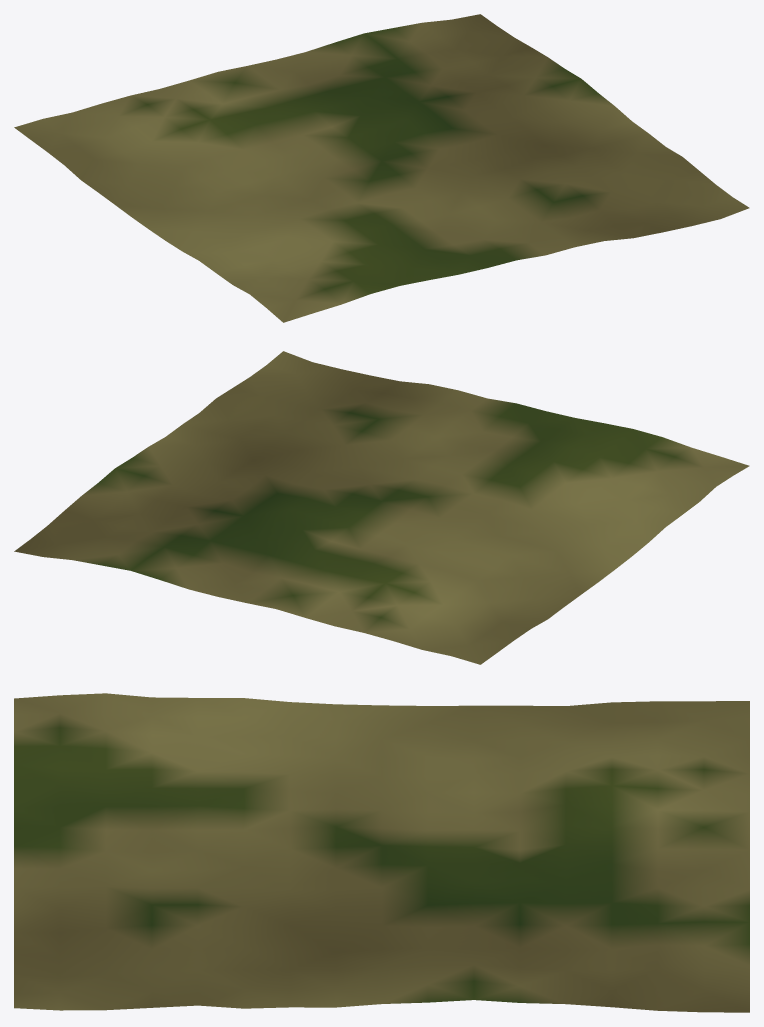
Rendered from terrain_lod1_-3_-2.obj.
The picture shows the model from 3 angles, top to bottom: view 1: azimuth 30°, elevation 25°; view 2: azimuth 150°, elevation 25°; view 3: azimuth 270°, elevation 25°; orthographic projection. The views are drawn at different scales.
Parts seen in each view (by area): view 1: terrain_lod1_-3_-2; view 2: terrain_lod1_-3_-2; view 3: terrain_lod1_-3_-2.
Part boxes in pixels (x1=…): terrain_lod1_-3_-2: x1=14, y1=14, x2=749, y2=322; terrain_lod1_-3_-2: x1=14, y1=351, x2=749, y2=664; terrain_lod1_-3_-2: x1=14, y1=693, x2=749, y2=1012.
Size of the model in its own units: 128 by 3.69 by 128.
